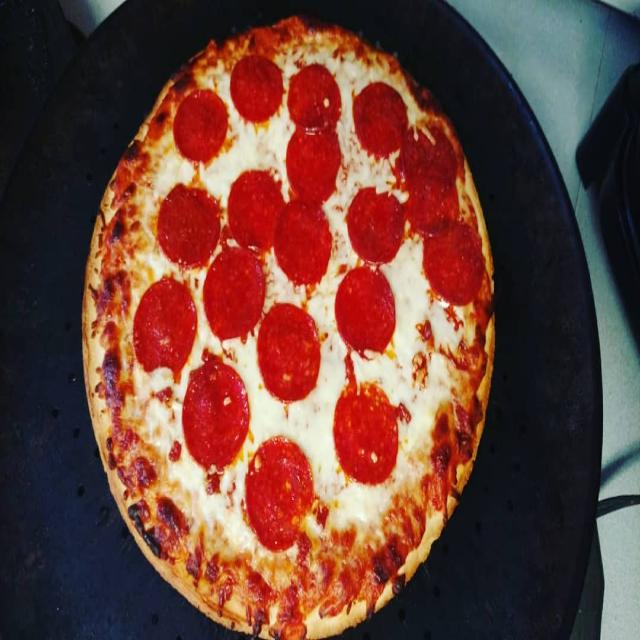pepperoni: (243, 433, 315, 555), (180, 356, 250, 474), (332, 381, 399, 488), (257, 299, 323, 406), (132, 274, 197, 379), (201, 244, 266, 349), (334, 266, 401, 363), (421, 218, 484, 314), (156, 182, 222, 270), (346, 183, 410, 268), (273, 199, 333, 288), (349, 77, 411, 162), (281, 124, 345, 206), (228, 166, 284, 256), (286, 60, 346, 138), (400, 122, 458, 196), (172, 91, 228, 165), (228, 55, 284, 126), (406, 170, 461, 240)
pizza: (82, 16, 495, 640)
